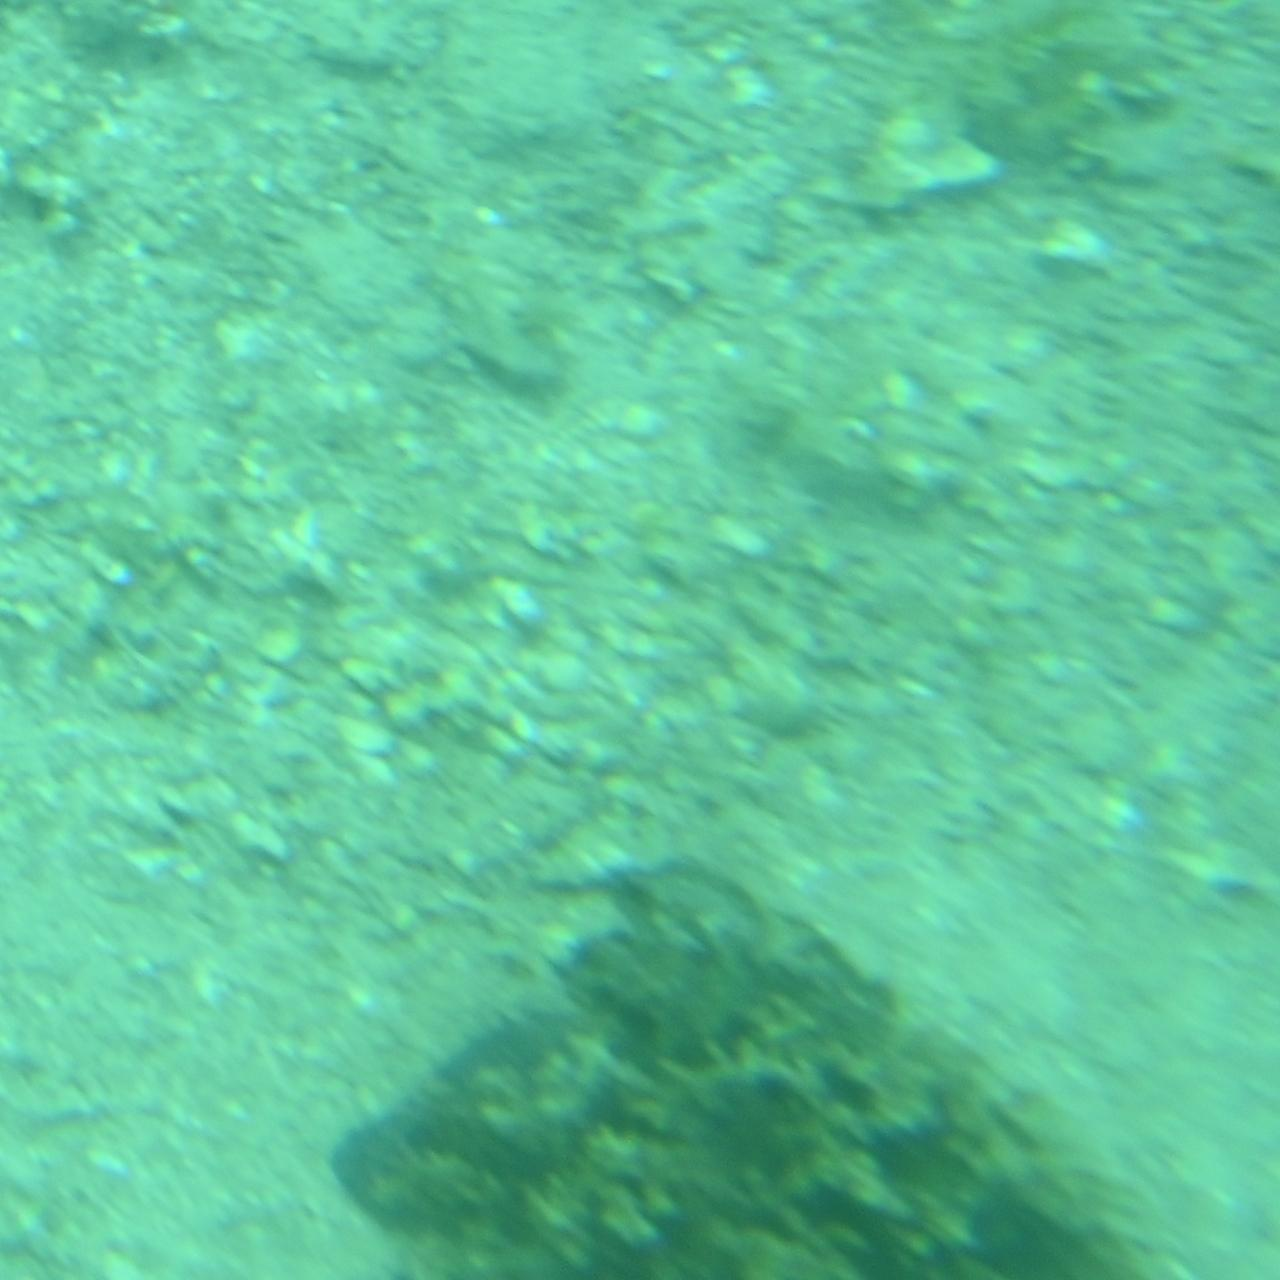Phaeophyceae -cfr Cystoseira-: (332, 852, 1206, 1280)
